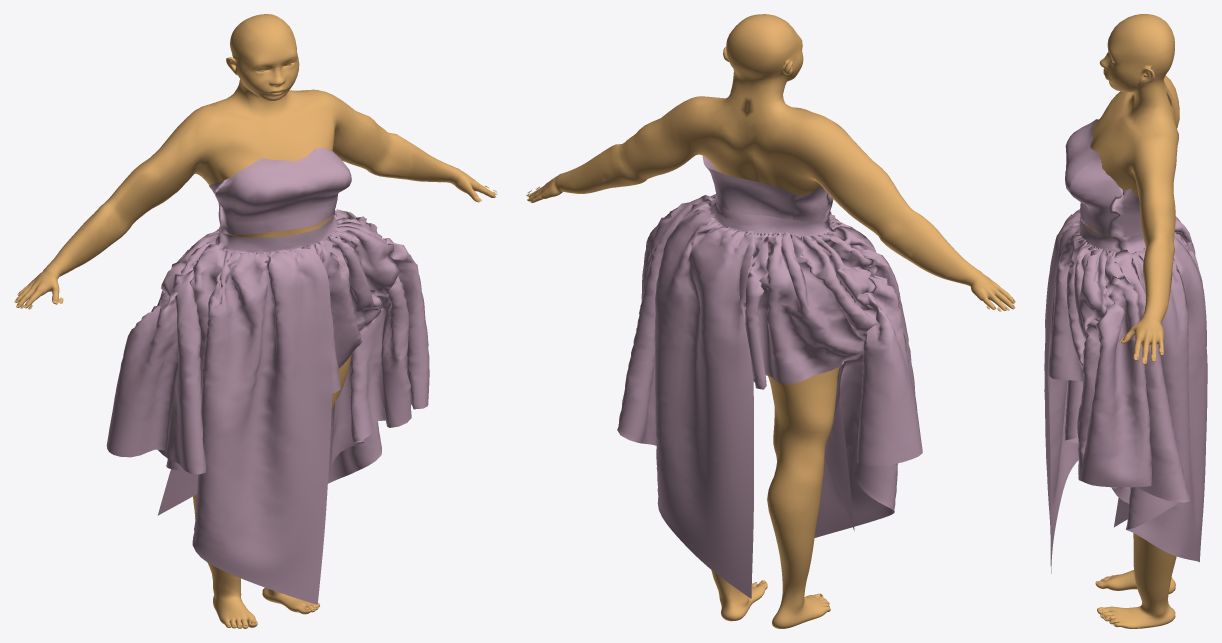
Rendered from dress8.glb.
3 renders of one model, left to right at view 1: azimuth 30°, elevation 25°; view 2: azimuth 150°, elevation 25°; view 3: azimuth 270°, elevation 25°, orthographic.
Parts seen in each view (by area): view 1: Project 1, Body; view 2: Project 1, Body; view 3: Project 1, Body.
Part boxes in pixels (x1,y1,x2,y2): Project 1: (106,147,429,604); Body: (14,14,495,628); Project 1: (617,156,922,598); Body: (527,14,1015,628); Project 1: (1044,119,1207,573); Body: (1086,14,1179,628).
Bounding box in the file's own units: 1.59 × 1.88 × 0.4668.
